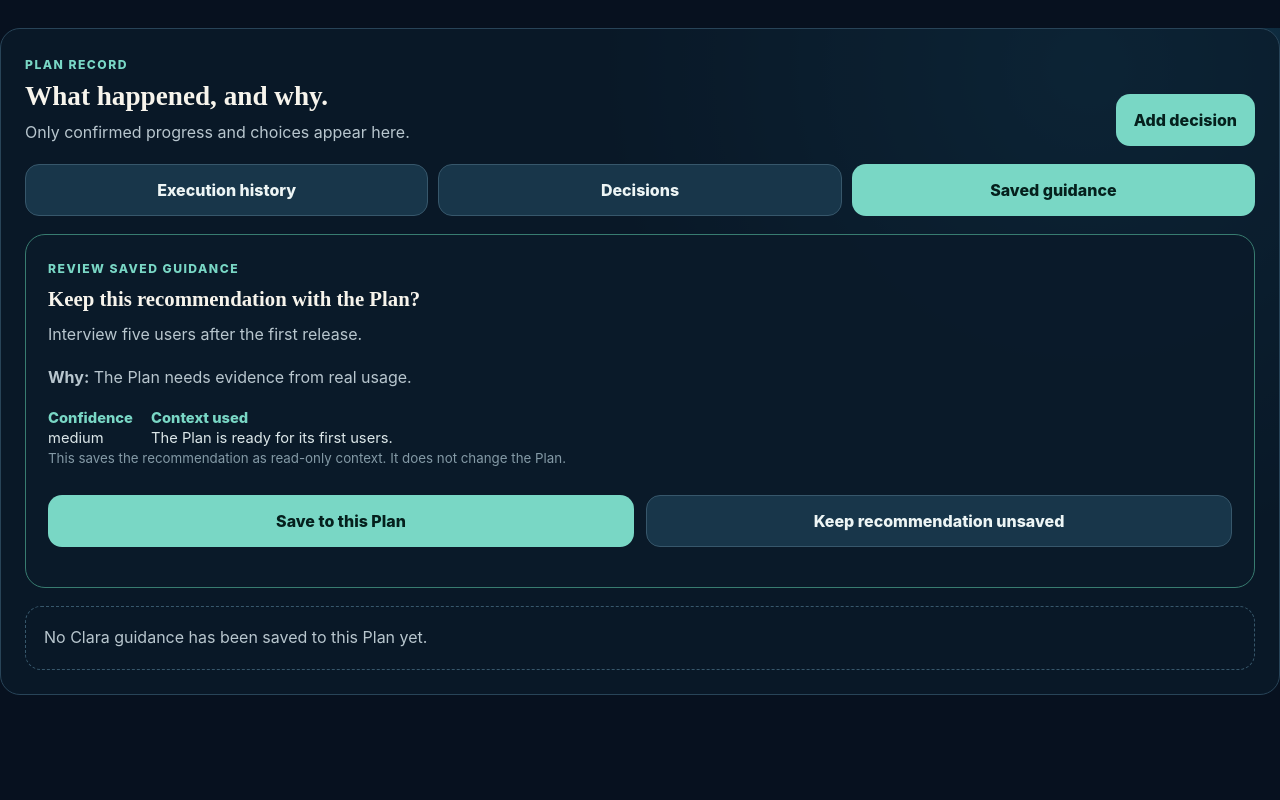
Test: PlanRecordSection › fails safely and keeps the reviewed decision retryable
The image size is (1280, 800).
Click the button "Save to this Plan": (341, 521) [48, 495, 634, 547]
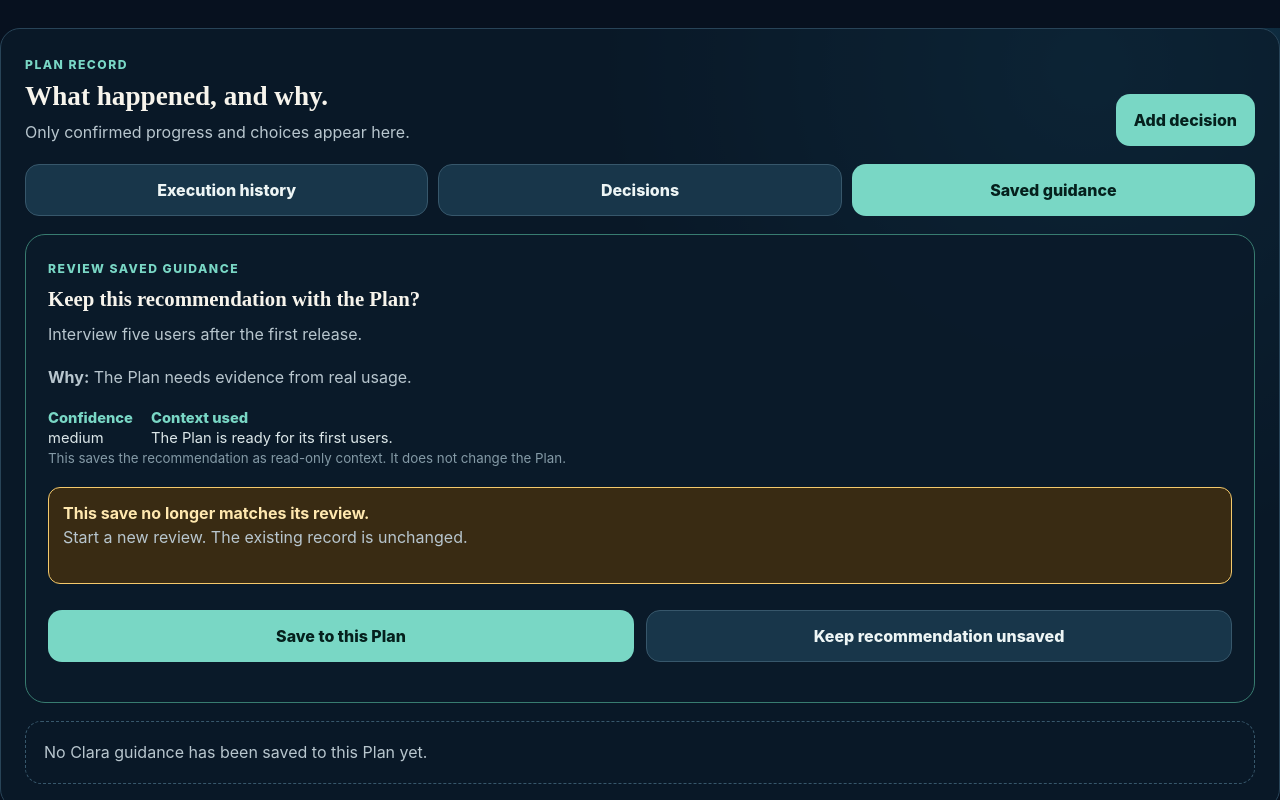
Expected: the button "Save to this Plan" is enabled, [48, 610, 634, 662]
Result: the text "This save no longer matches its review." is shown at [63, 503, 369, 523]
